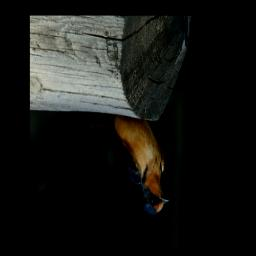Swallow: (66, 113, 170, 215)
